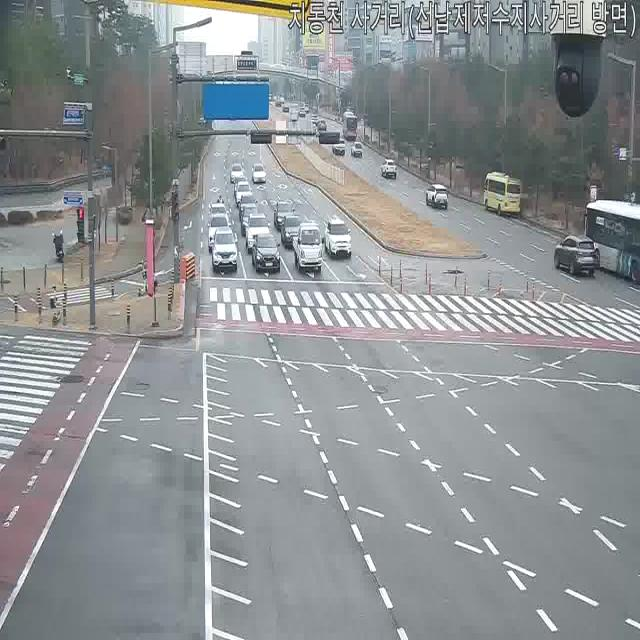Bus: (582, 197, 640, 288), (482, 172, 524, 216), (341, 111, 358, 141)
Car: (554, 234, 598, 278), (482, 172, 524, 216), (210, 228, 238, 274), (251, 232, 281, 274), (323, 217, 352, 259), (244, 212, 271, 252), (206, 214, 232, 251), (281, 215, 306, 249), (274, 200, 296, 231), (208, 201, 230, 231), (425, 183, 449, 210), (239, 206, 259, 236), (238, 192, 258, 221), (235, 181, 252, 207), (251, 162, 267, 185), (381, 158, 397, 179), (230, 163, 244, 184), (332, 139, 345, 156), (351, 141, 363, 158), (316, 120, 328, 134), (289, 109, 298, 124), (274, 96, 284, 107), (298, 106, 306, 117), (282, 103, 290, 114), (310, 113, 318, 123)
Motorcycle: (213, 191, 225, 214)
Truck: (294, 222, 324, 273)
